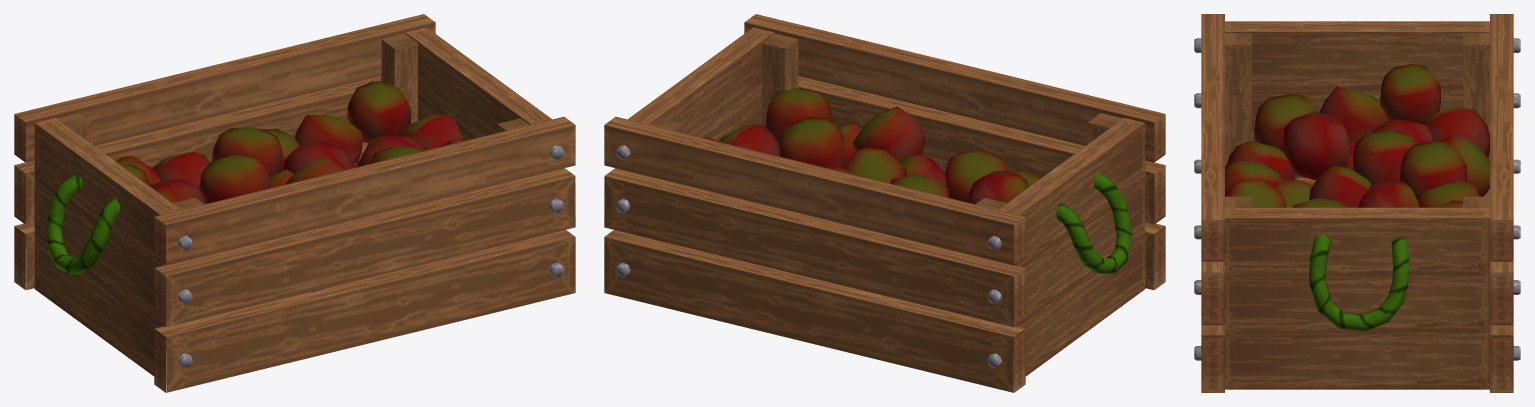
File: FarmCrate_Apple.glb
3 views of the same model, side by side, from view 1: azimuth 30°, elevation 25°; view 2: azimuth 150°, elevation 25°; view 3: azimuth 270°, elevation 25° (orthographic). The views are drawn at different scales.
Visible parts, largest first — view 1: FarmCrate_Apple; view 2: FarmCrate_Apple; view 3: FarmCrate_Apple.
Boxes of the visible parts, x1,y1,x2,y2 form: FarmCrate_Apple: (14,14,575,392); FarmCrate_Apple: (604,14,1165,392); FarmCrate_Apple: (1194,14,1520,392).
Bounding box in the file's own units: 0.7138 × 0.2437 × 0.4142.
3 materials, 3 textured.
